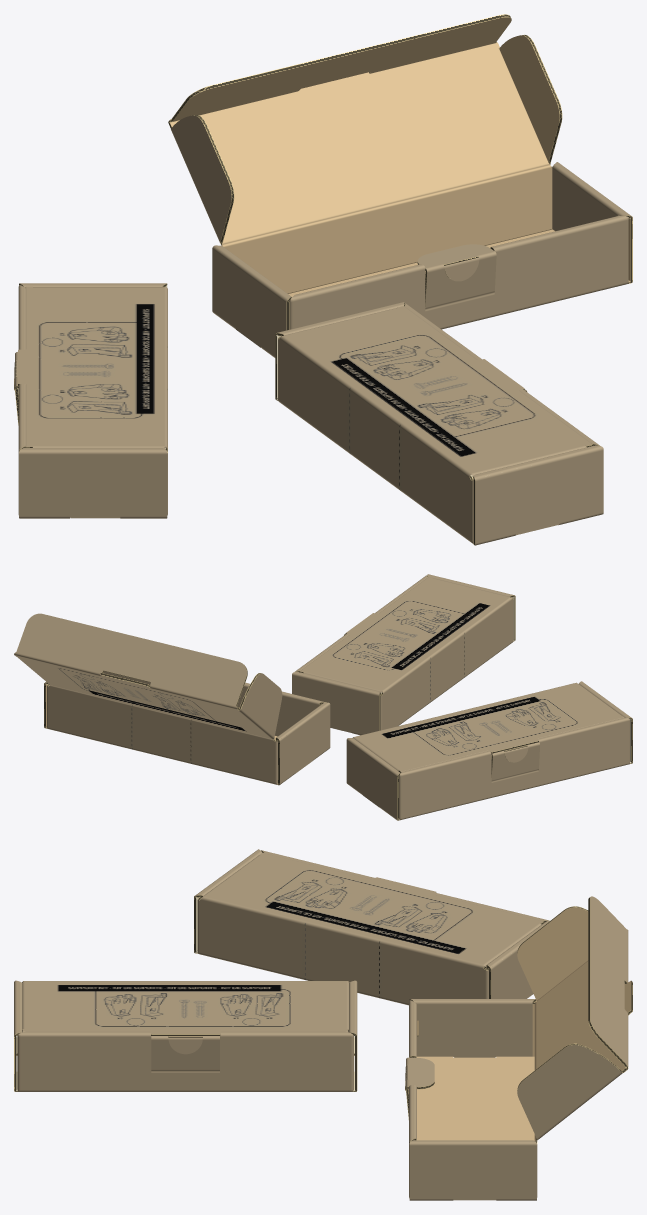
The model's file is 4D ROINTE MPCASPT.gltf.
3 renders of one model, top to bottom at view 1: azimuth 30°, elevation 25°; view 2: azimuth 150°, elevation 25°; view 3: azimuth 270°, elevation 25°, orthographic. The views are drawn at different scales.
Visible parts, largest first — view 1: TQ_ARD-node.001, TQ_ARD-node.002, TQ_ARD-node; view 2: TQ_ARD-node.001, TQ_ARD-node, TQ_ARD-node.002; view 3: TQ_ARD-node.001, TQ_ARD-node.002, TQ_ARD-node.
Boxes of the visible parts, x1,y1,x2,y2 form: TQ_ARD-node.001: (168, 14, 632, 357); TQ_ARD-node.002: (275, 302, 603, 545); TQ_ARD-node: (14, 283, 167, 518); TQ_ARD-node.001: (14, 613, 330, 785); TQ_ARD-node: (346, 681, 632, 820); TQ_ARD-node.002: (292, 574, 515, 735); TQ_ARD-node.001: (405, 896, 632, 1200); TQ_ARD-node.002: (14, 980, 357, 1091); TQ_ARD-node: (194, 849, 549, 1005).
Size of the model in its own units: 0.4047 by 0.11 by 0.3598.
Materials: 6 (4 with a texture image).
